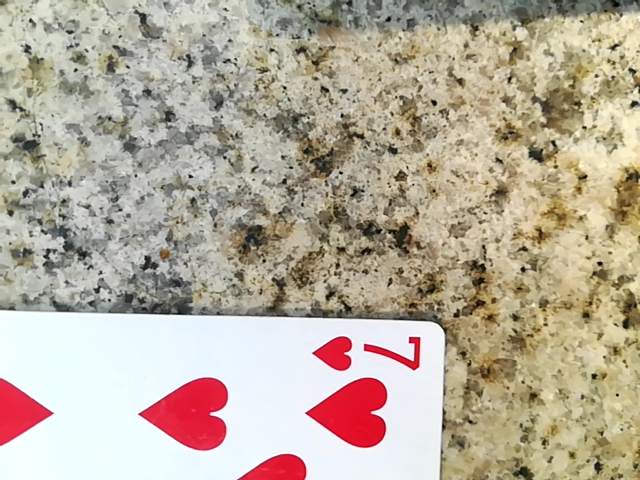hx 7: (0, 308, 442, 479)
